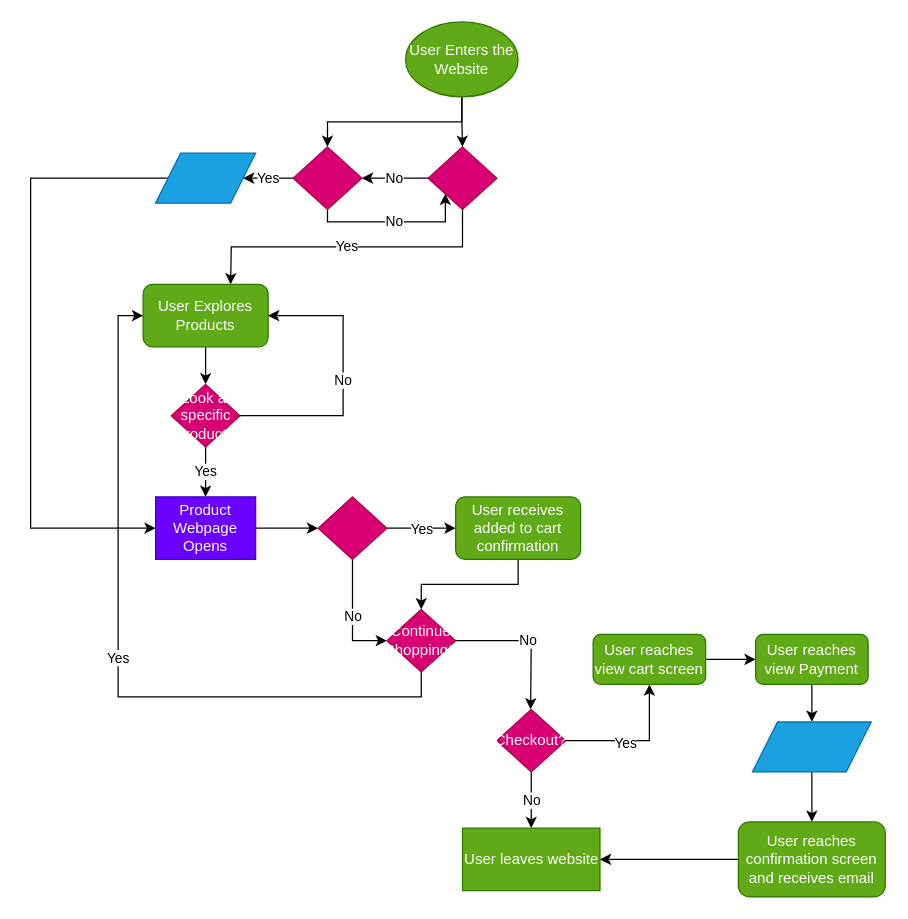
This 908x919 diagram has some shape labels left out. Each missing label, with the box of its shape:
Add to Cart?: (317, 496, 387, 559)
enter payment info: (751, 721, 871, 772)
Explore Page: (427, 146, 497, 209)
Search?: (292, 146, 362, 209)
User Input: (154, 152, 256, 203)
